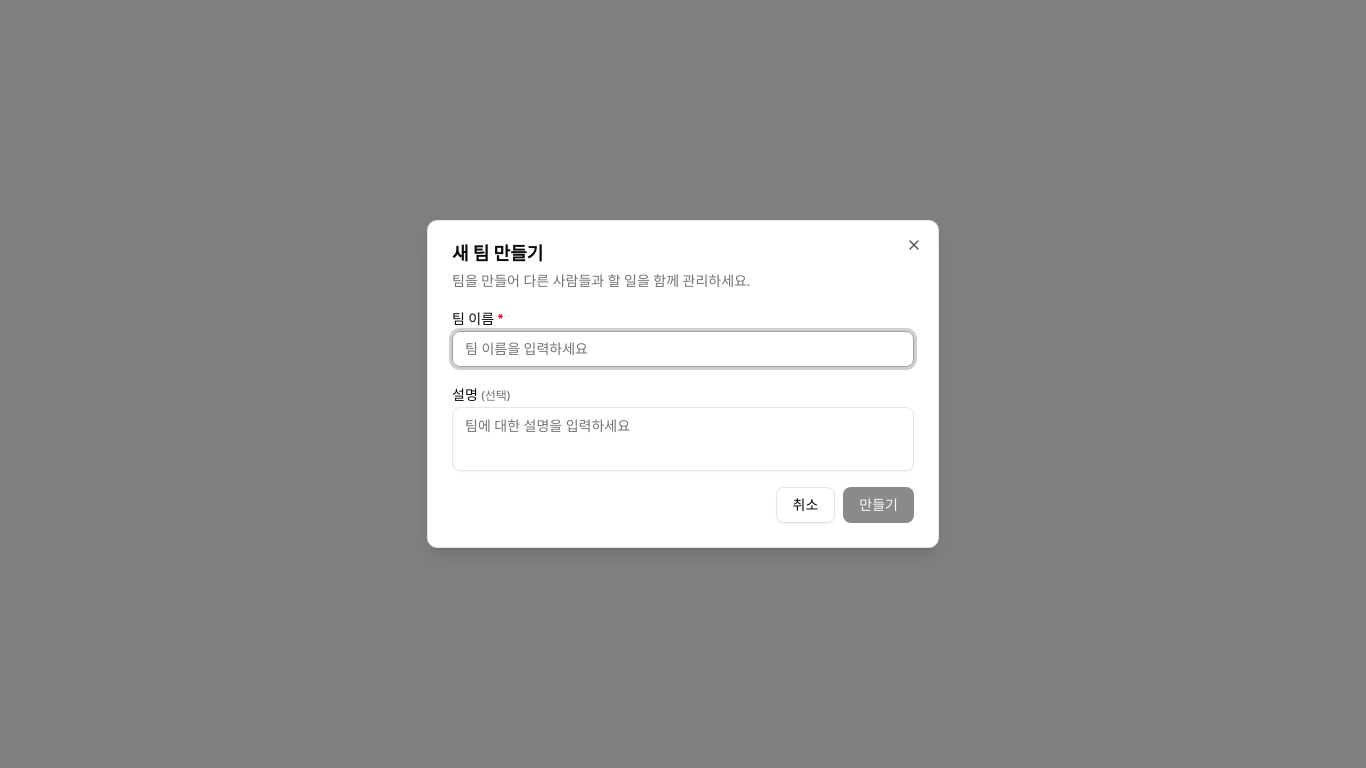
Test case: CreateTeamDialog › shows error when createTeam returns null
Type "New Team" into the field with placeholder "팀 이름을 입력하세요".
click(683, 349); type("New Team")  # box [452,331,914,367]
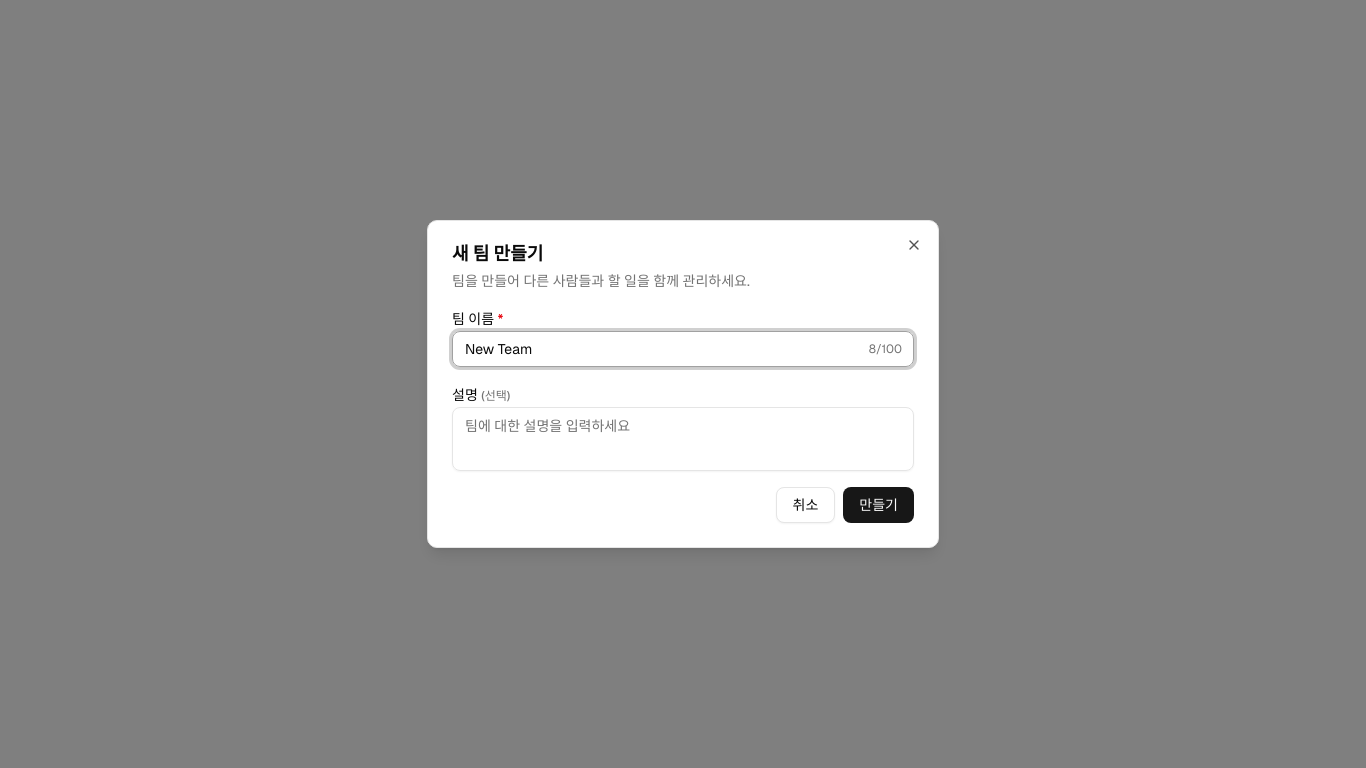
Click the button "만들기".
click(879, 505)  # box [843,487,914,523]
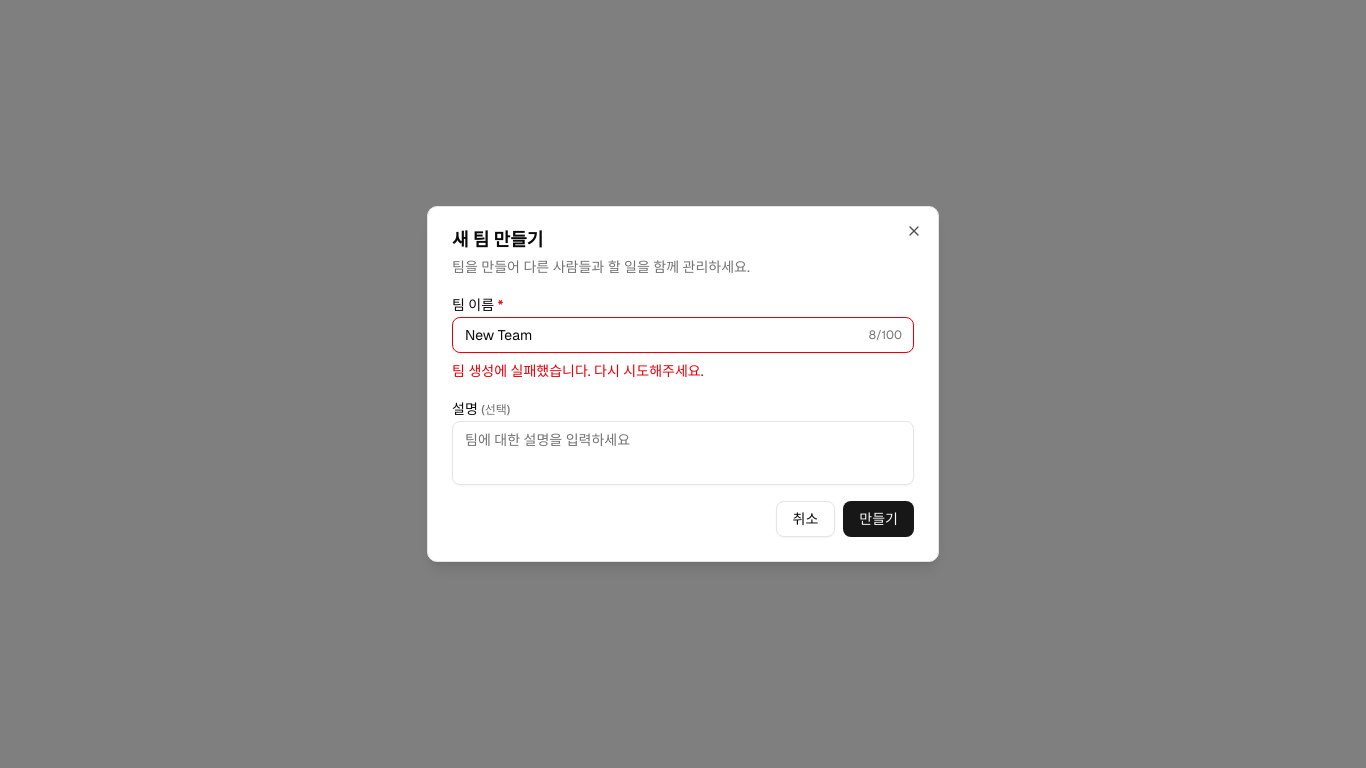
Expected: the text "팀 생성에 실패했습니다. 다시 시도해주세요." is shown, [452,362,704,380]
